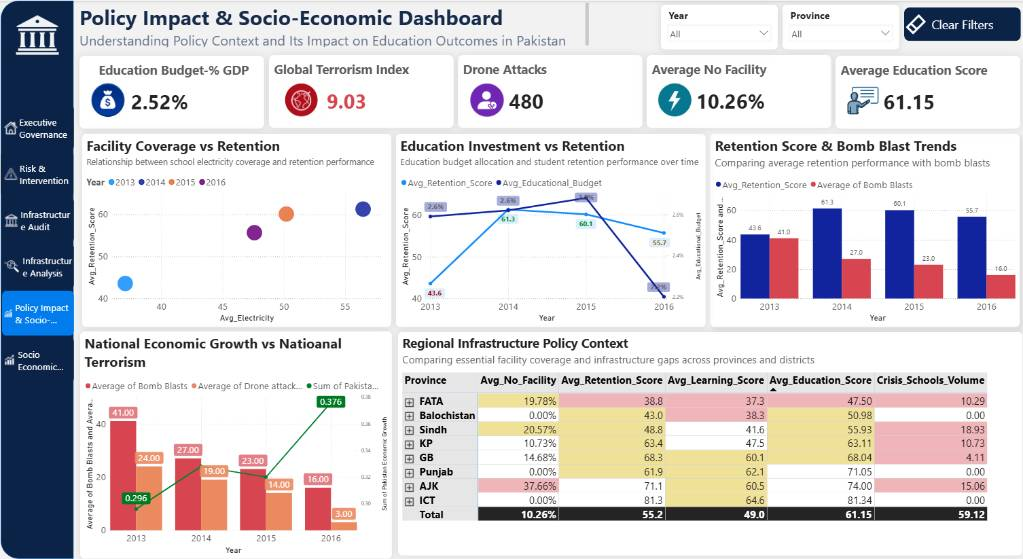

Layout of this report page (visuals, bound fields, positions):
{"tool":"powerbi","page":{"name":"Policy Impact & Socio-Economic","canvas":[2400,1300],"ordinal":4},"visuals":[{"type":"textbox","box":[189.1,0,1196,113.5],"z":0},{"type":"slicer","fields":{"Values":["Dim_Context.Province"]},"box":[1831.8,9.5,271.8,104],"z":1000},{"type":"cardVisual","title":"Education Budget-% GDP","fields":{"Data":["Measures (2).Avg_Educational_Budget"]},"box":[195.2,128.2,430,170],"z":2000},{"type":"cardVisual","title":"Drone Attacks","fields":{"Data":["Sum(Dim_Context.Drone attacks in Pakistan)"]},"box":[1075.5,127.3,430,170],"z":3000},{"type":"cardVisual","title":"Global Terrorism Index","fields":{"Data":["Measures (2).Avg_Terrorism_Index"]},"box":[635.4,127.3,430,170],"z":4000},{"type":"scatterChart","title":"Facility Coverage vs Retention","fields":{"Category":["Dim_Time.Year"],"Y":["Measures (2).Avg_Retention_Score"],"X":["Measures (2).Avg_Electricity"],"Series":["Dim_Time.Year"],"Size":["Measures (2).Avg_All_Four_Facilities"]},"box":[200.9,309.6,720,450],"z":5000},{"type":"clusteredColumnChart","title":"Retention Score & Bomb Blast Trends","fields":{"Category":["Dim_Context.Year"],"Y":["Measures (2).Avg_Retention_Score","Avg(Dim_Context.Bomb Blasts Occurred)"]},"box":[1664,309.6,720,450],"z":6000},{"type":"lineClusteredColumnComboChart","title":"National Economic Growth vs Natioanal Terrorism","fields":{"Category":["Dim_Context.Year"],"Y":["Avg(Dim_Context.Bomb Blasts)","Avg(Dim_Context.Drone attacks in Pakistan)"],"Y2":["Sum(Dim_Context.Pakistan Economic Growth)"]},"box":[196.2,770.5,725.6,529.5],"z":7000},{"type":"lineChart","title":"Education Investment vs Retention","fields":{"Category":["Dim_Time.Year"],"Y":["Measures (2).Avg_Retention_Score"],"Y2":["Measures (2).Avg_Educational_Budget"]},"box":[931.3,309.6,720.9,450],"z":8000},{"type":"pivotTable","title":"Regional Infrastructure Policy Context","fields":{"Values":["Measures (2).Avg_No_Facility","Measures (2).Avg_Retention_Score","Measures (2).Avg_Learning_Score","Measures (2).Avg_Education_Score","Measures (2).Crisis_Schools_Volume"],"Rows":["Dim_Geography.Province","Dim_Geography.City"]},"box":[936.2,771.3,1453.6,520],"z":9000},{"type":"cardVisual","title":"Average No Facility","fields":{"Data":["Measures (2).Avg_No_Facility"]},"box":[1515.7,127.3,430,170],"z":10000},{"type":"cardVisual","title":"Average Education Score","fields":{"Data":["Measures (2).Avg_Education_Score"]},"box":[1955.9,128.2,430,170],"z":11000},{"type":"shape","box":[10.9,0,170,1300],"z":17500,"group":"g1"},{"type":"actionButton","box":[10.9,350,170,107.5],"z":17750,"group":"g1"},{"type":"actionButton","box":[13.4,457.5,167.5,107.5],"z":17875,"group":"g1"},{"type":"actionButton","box":[13.4,675,167.5,105],"z":17937,"group":"g1"},{"type":"actionButton","box":[13.4,565,167.5,107.5],"z":17968,"group":"g1"},{"type":"actionButton","box":[13.4,782.5,167.5,107.5],"z":17984,"group":"g1"},{"type":"actionButton","box":[13.4,242.5,167.5,107.5],"z":17992,"group":"g1"},{"type":"slicer","fields":{"Values":["Dim_Context.Year"]},"box":[1548.2,9.5,271.8,104],"z":18000},{"type":"actionButton","box":[2115.5,16.5,271.8,78],"z":19000},{"type":"group","id":"g1","title":"Group 1","box":[10.9,0,170,1300],"z":20001},{"type":"image","box":[21.3,16.5,150,133.3],"z":23001}]}

Visuals, with their boxes on the page's 2400x1300 design canvas (x1, y1, x2, y2). These are canvas units, not pixel positions in the 1023x559 screenshot, which may show the page scaled, cropped or inside an application window:
textbox: pyautogui.locateOnScreen(189, 0, 1385, 114)
slicer - Dim_Context.Province: pyautogui.locateOnScreen(1832, 10, 2104, 114)
"Education Budget-% GDP" cardVisual: pyautogui.locateOnScreen(195, 128, 625, 298)
"Drone Attacks" cardVisual: pyautogui.locateOnScreen(1076, 127, 1506, 297)
"Global Terrorism Index" cardVisual: pyautogui.locateOnScreen(635, 127, 1065, 297)
"Facility Coverage vs Retention" scatterChart: pyautogui.locateOnScreen(201, 310, 921, 760)
"Retention Score & Bomb Blast Trends" clusteredColumnChart: pyautogui.locateOnScreen(1664, 310, 2384, 760)
"National Economic Growth vs Natioanal Terrorism" lineClusteredColumnComboChart: pyautogui.locateOnScreen(196, 770, 922, 1300)
"Education Investment vs Retention" lineChart: pyautogui.locateOnScreen(931, 310, 1652, 760)
"Regional Infrastructure Policy Context" pivotTable: pyautogui.locateOnScreen(936, 771, 2390, 1291)
"Average No Facility" cardVisual: pyautogui.locateOnScreen(1516, 127, 1946, 297)
"Average Education Score" cardVisual: pyautogui.locateOnScreen(1956, 128, 2386, 298)
shape: pyautogui.locateOnScreen(11, 0, 181, 1300)
actionButton: pyautogui.locateOnScreen(11, 350, 181, 458)
actionButton: pyautogui.locateOnScreen(13, 458, 181, 565)
actionButton: pyautogui.locateOnScreen(13, 675, 181, 780)
actionButton: pyautogui.locateOnScreen(13, 565, 181, 672)
actionButton: pyautogui.locateOnScreen(13, 782, 181, 890)
actionButton: pyautogui.locateOnScreen(13, 242, 181, 350)
slicer - Dim_Context.Year: pyautogui.locateOnScreen(1548, 10, 1820, 114)
actionButton: pyautogui.locateOnScreen(2116, 16, 2387, 94)
"Group 1" group: pyautogui.locateOnScreen(11, 0, 181, 1300)
image: pyautogui.locateOnScreen(21, 16, 171, 150)
